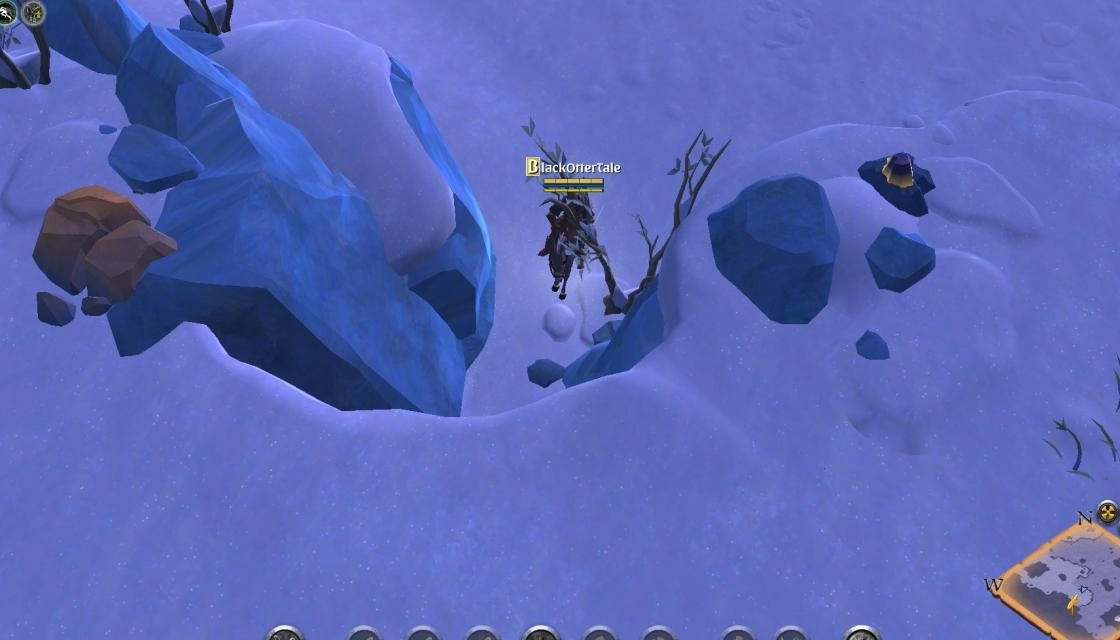copperore: (857, 145, 937, 209)
limestone: (32, 183, 182, 334)
